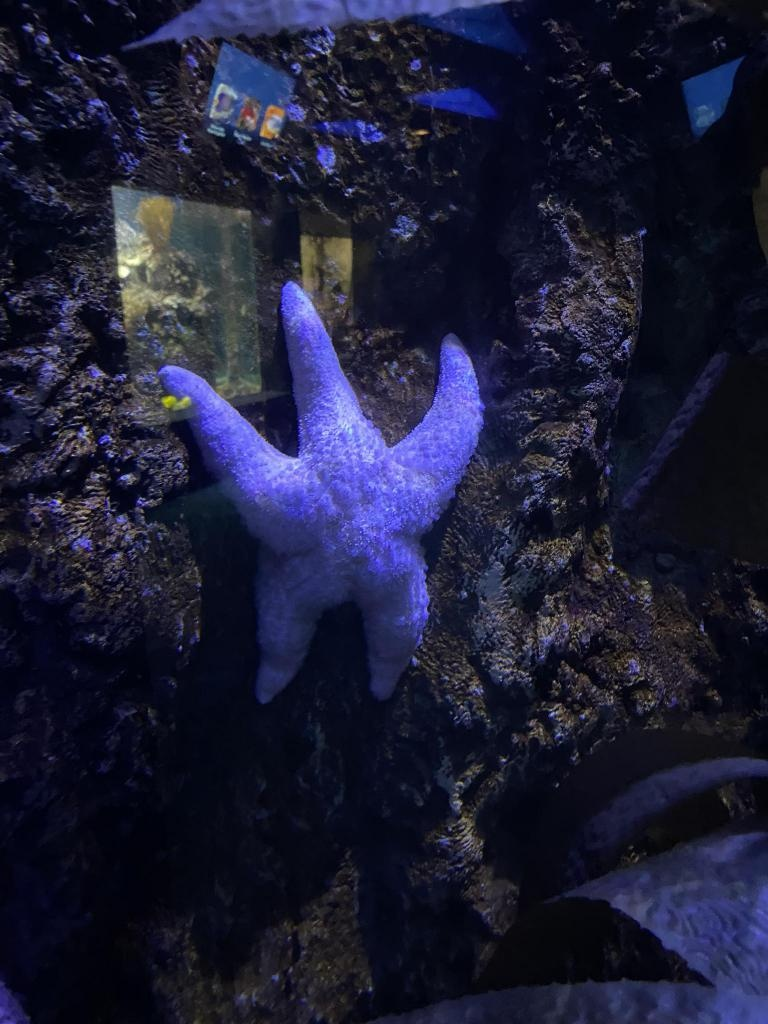starfish: (159, 294, 493, 704)
